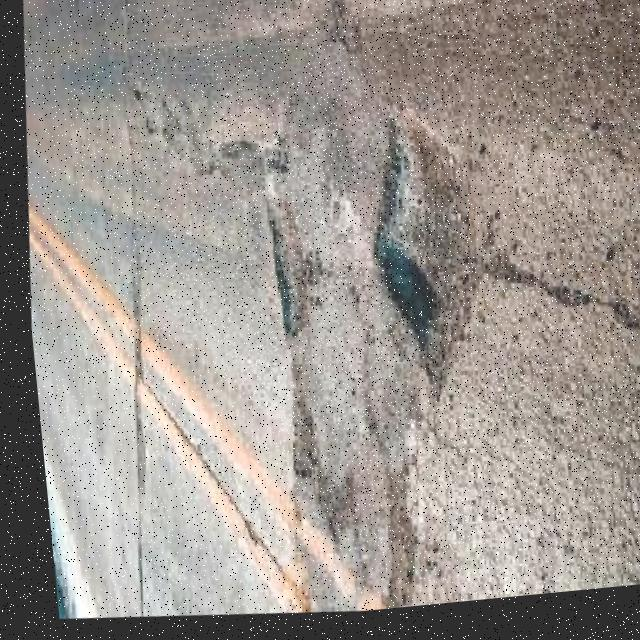pothole: (216, 28, 454, 624), (335, 84, 640, 438)
